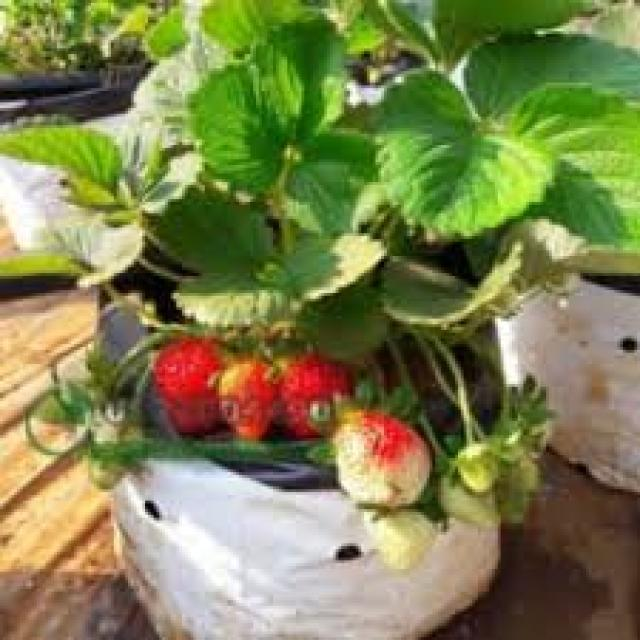Fruta sana: (220, 346, 280, 439), (288, 359, 348, 441), (158, 347, 217, 430)
